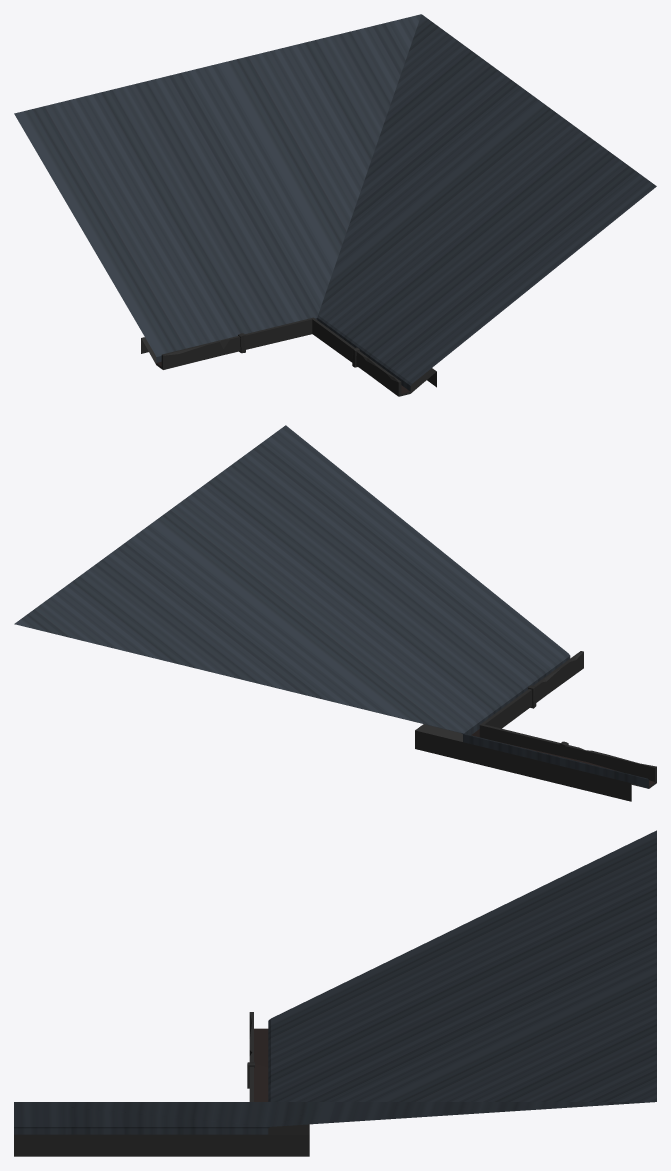
File: SM_Bld_House_Roof_Angled_Corner_01.fbx
The picture shows the model from 3 angles, top to bottom: view 1: azimuth 30°, elevation 25°; view 2: azimuth 150°, elevation 25°; view 3: azimuth 270°, elevation 25°; orthographic projection. The views are drawn at different scales.
Parts seen in each view (by area): view 1: SM_Bld_House_Roof_Angled_Corner_01; view 2: SM_Bld_House_Roof_Angled_Corner_01; view 3: SM_Bld_House_Roof_Angled_Corner_01.
Boxes of the visible parts, left/top/right/bottom form: SM_Bld_House_Roof_Angled_Corner_01: left=14, top=14, right=656, bottom=396; SM_Bld_House_Roof_Angled_Corner_01: left=14, top=425, right=656, bottom=801; SM_Bld_House_Roof_Angled_Corner_01: left=14, top=830, right=656, bottom=1156.
Bounding box in the file's own units: 500 × 175 × 500.
